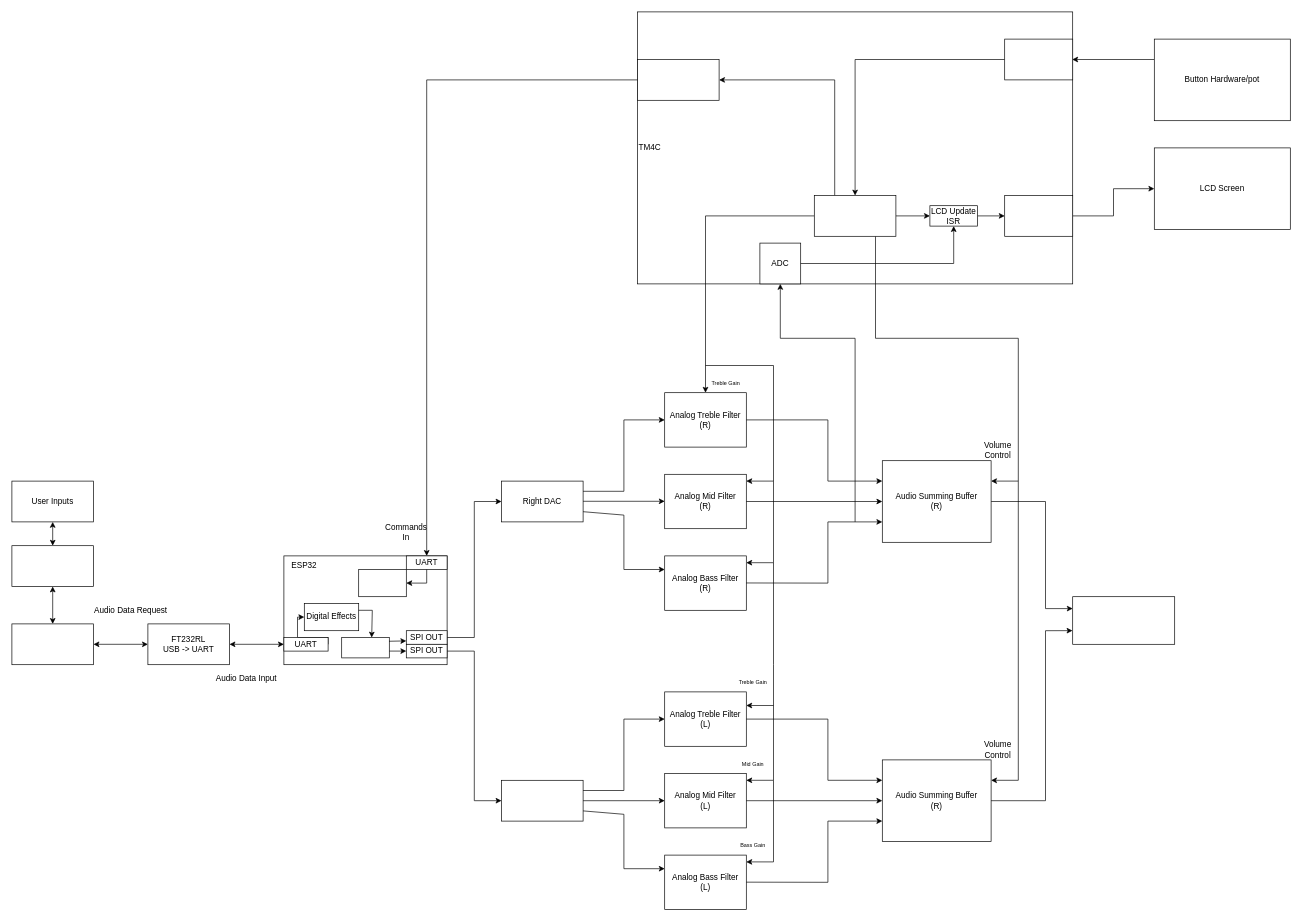
Some shapes in this 1302 by 921 pixel diagram are drawn without their labels. Each missing label, with the box of its shape:
Audio Jack: (1072, 596, 1175, 644)
Control Logic: (814, 195, 896, 236)
DSP Controls: (358, 569, 406, 597)
Laptop App Backend: (11, 623, 94, 665)
Laptop App Frontend: (11, 545, 94, 586)
LCD Control: (1004, 195, 1073, 236)
Left DAC: (501, 780, 583, 821)
SPI Output ISR: (341, 637, 389, 658)
UART MODULE: (637, 59, 719, 100)
UI Timer ISR: (1004, 38, 1073, 80)
